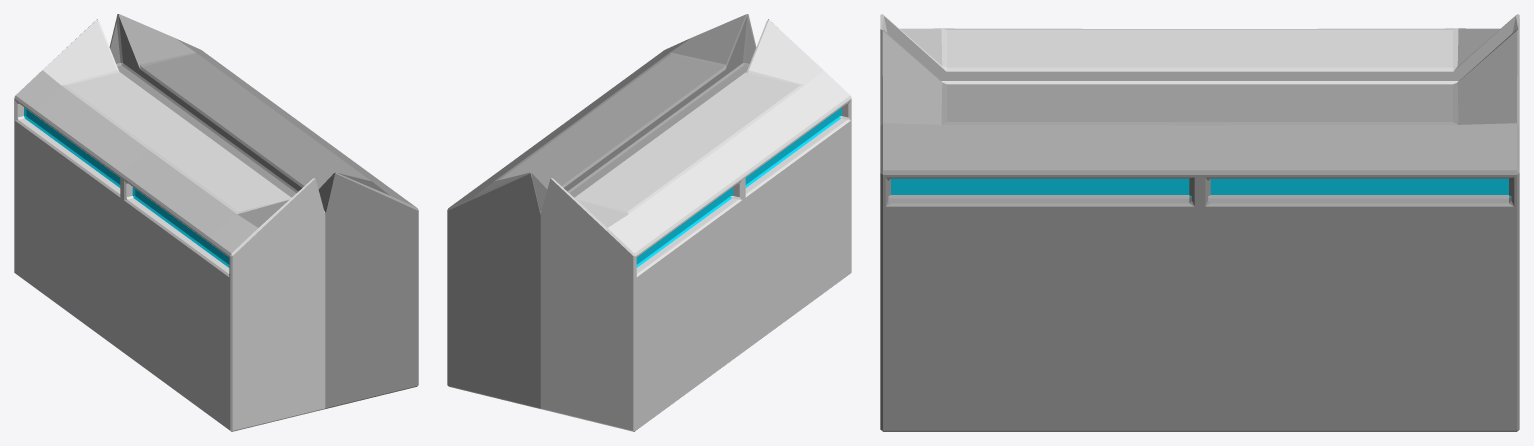
File: Wall_FenetreBrokenTop.fbx
3 renders of one model, left to right at view 1: azimuth 30°, elevation 25°; view 2: azimuth 150°, elevation 25°; view 3: azimuth 270°, elevation 25°, orthographic. The views are drawn at different scales.
Parts seen in each view (by area): view 1: Wall_FenetreBrokenTop; view 2: Wall_FenetreBrokenTop; view 3: Wall_FenetreBrokenTop.
Part boxes in pixels (<box>): Wall_FenetreBrokenTop: <box>14,14,418,431</box>; Wall_FenetreBrokenTop: <box>447,14,851,431</box>; Wall_FenetreBrokenTop: <box>880,14,1519,431</box>.
Size of the model in its own units: 200 by 237 by 400.
